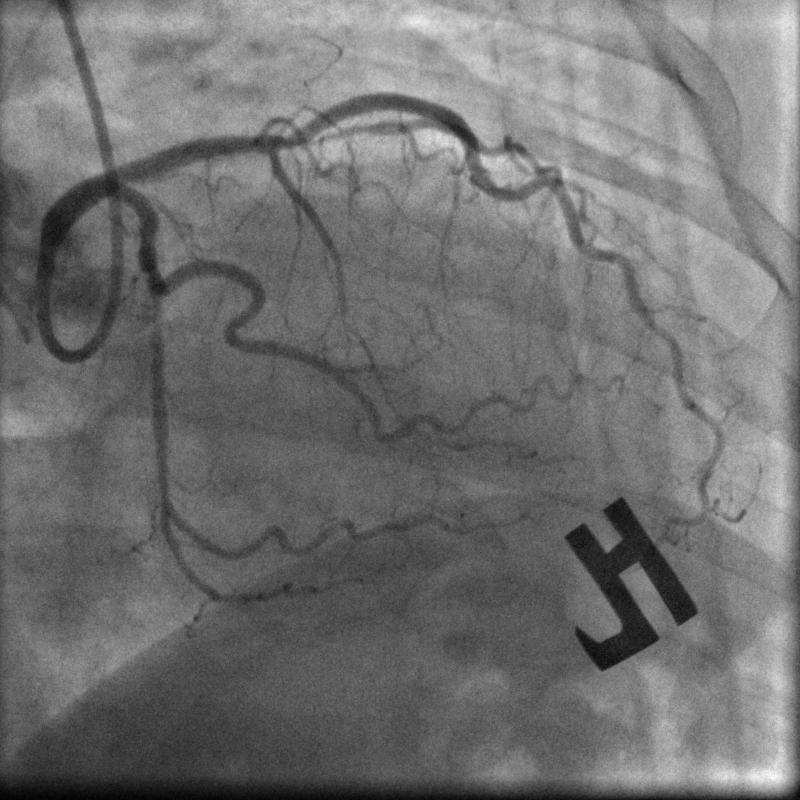Stenosis: (132, 219, 172, 289)
